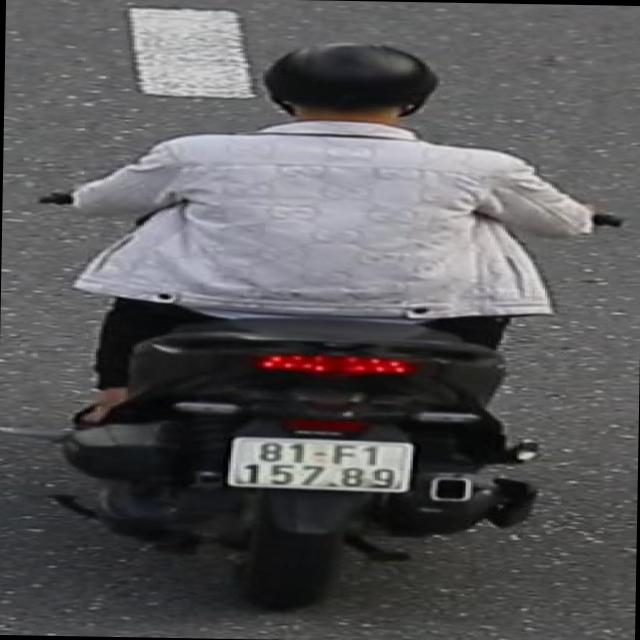LP: (217, 432, 408, 497)
helmet: (261, 34, 458, 152)
